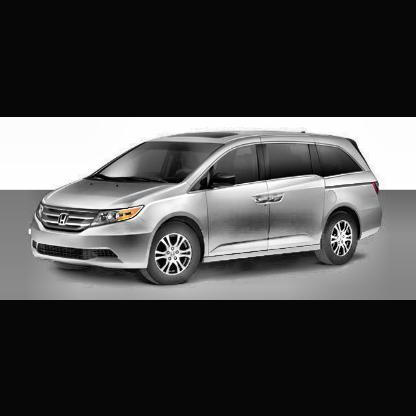Honda Odyssey Minivan 2012: (27, 129, 387, 288)
